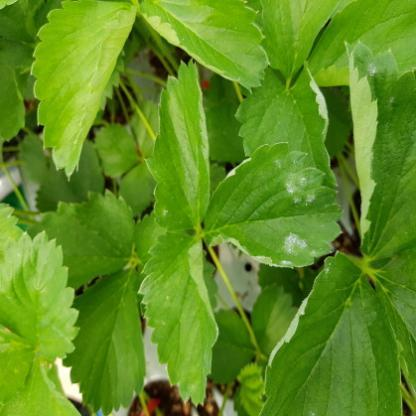Strawberry_Powdery_Mildew_Leaf: (258, 250, 403, 415), (203, 140, 344, 269), (343, 39, 415, 262), (233, 58, 338, 188), (142, 57, 211, 234)
